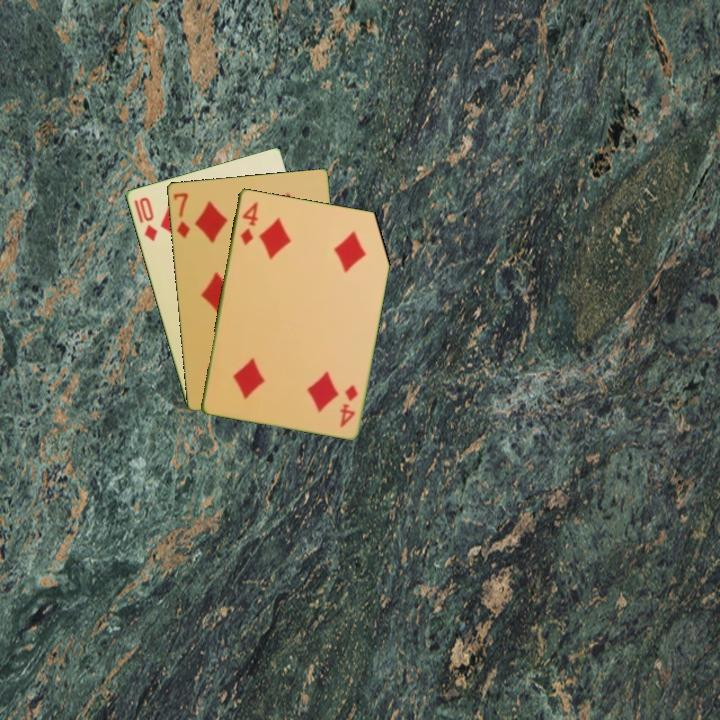10d: (135, 193, 160, 244)
4d: (236, 198, 260, 248), (336, 381, 360, 430)
7d: (170, 189, 193, 241)
